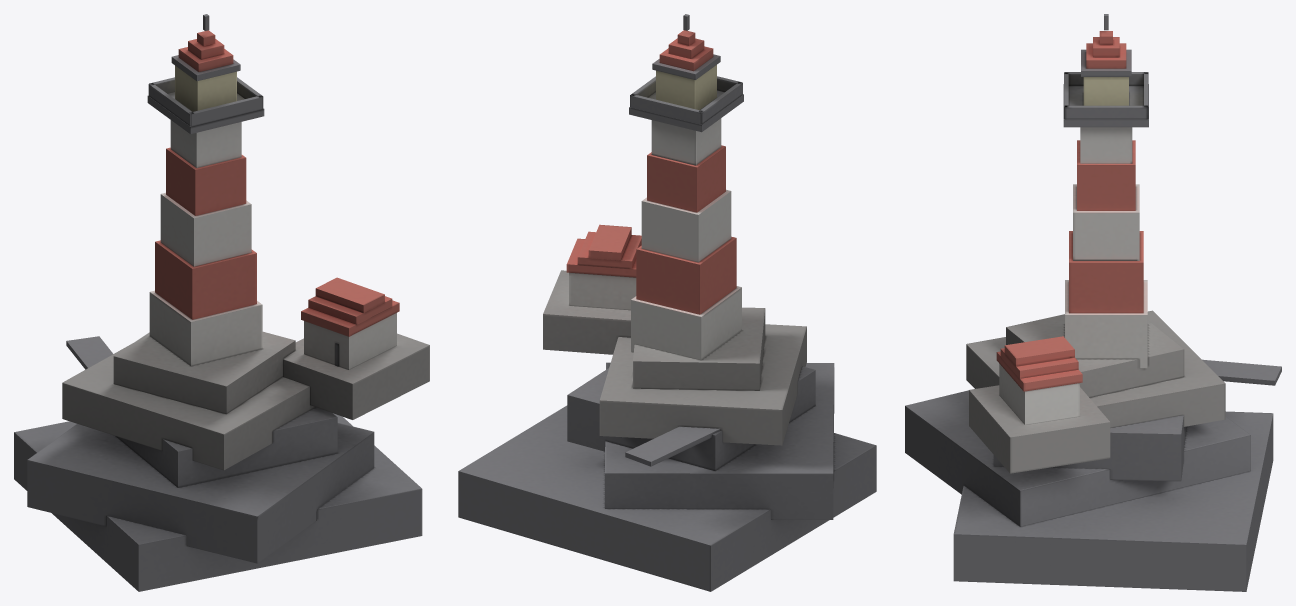
File: lighthouse.glb
3 renders of one model, left to right at view 1: azimuth 30°, elevation 25°; view 2: azimuth 150°, elevation 25°; view 3: azimuth 270°, elevation 25°, orthographic.
Parts seen in each view (by area): view 1: lighthouse; view 2: lighthouse; view 3: lighthouse.
Part boxes in pixels (bbox=[...]): lighthouse: bbox=[14, 14, 429, 591]; lighthouse: bbox=[458, 14, 876, 591]; lighthouse: bbox=[905, 14, 1281, 591].
Size of the model in its own units: 29.39 by 41.25 by 28.29.
5 materials, 5 textured.
